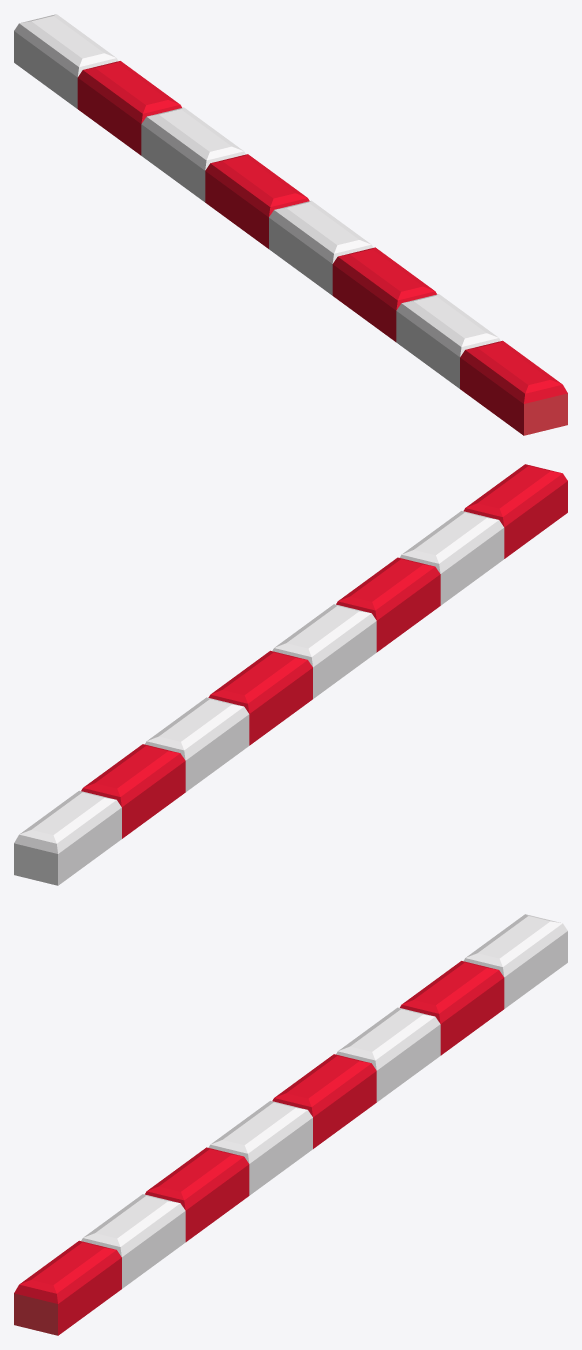
Rendered from Curbs.fbx.
3 views of the same model, one above another, from view 1: azimuth 30°, elevation 25°; view 2: azimuth 150°, elevation 25°; view 3: azimuth 330°, elevation 25° (orthographic).
Parts seen in each view (by area): view 1: Curbs; view 2: Curbs; view 3: Curbs.
Part boxes in pixels (bbox=[...]): Curbs: bbox=[14, 14, 567, 435]; Curbs: bbox=[14, 464, 567, 885]; Curbs: bbox=[14, 914, 567, 1335].
Size of the model in its own units: 0.4 by 0.375 by 8.
